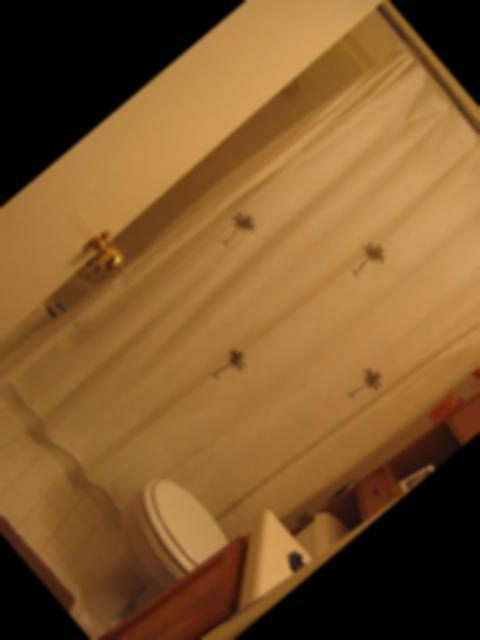Sanitario: (47, 396, 358, 640)
